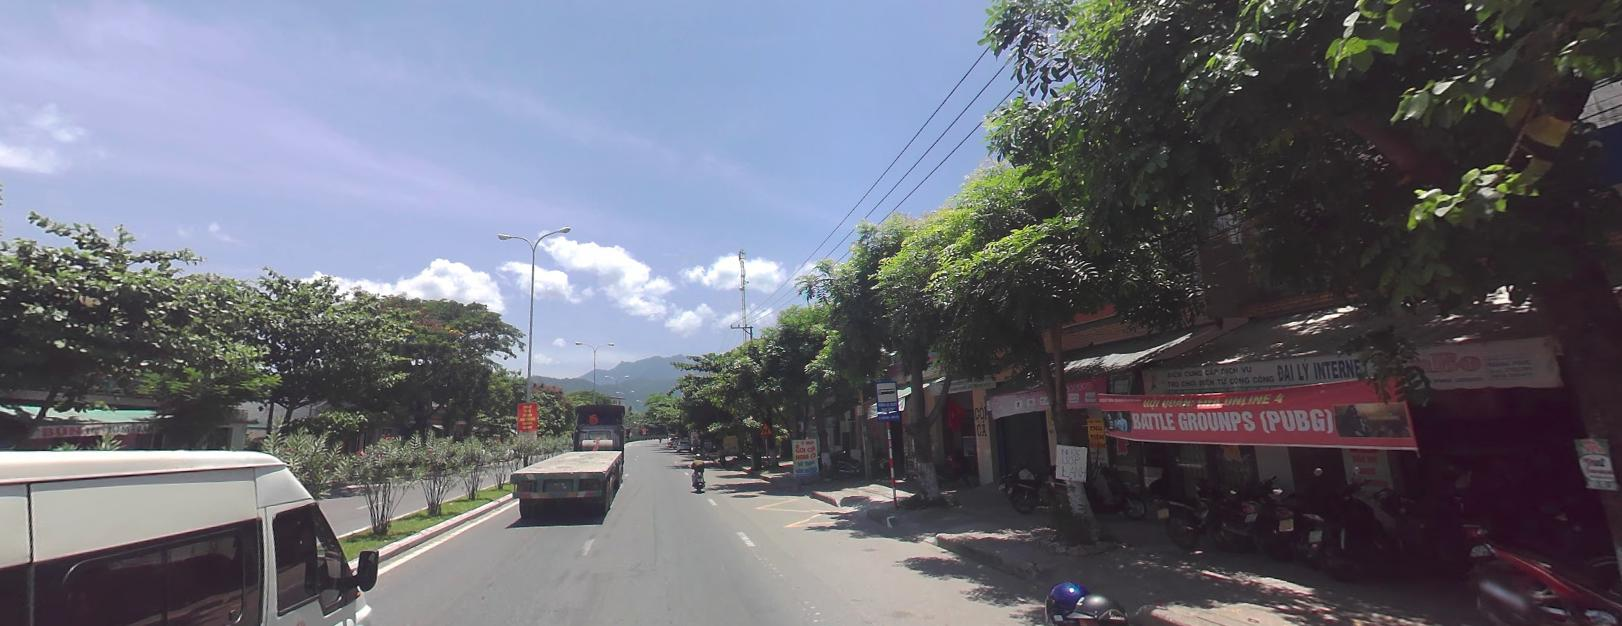Nguy hiem: (759, 421, 773, 435)
